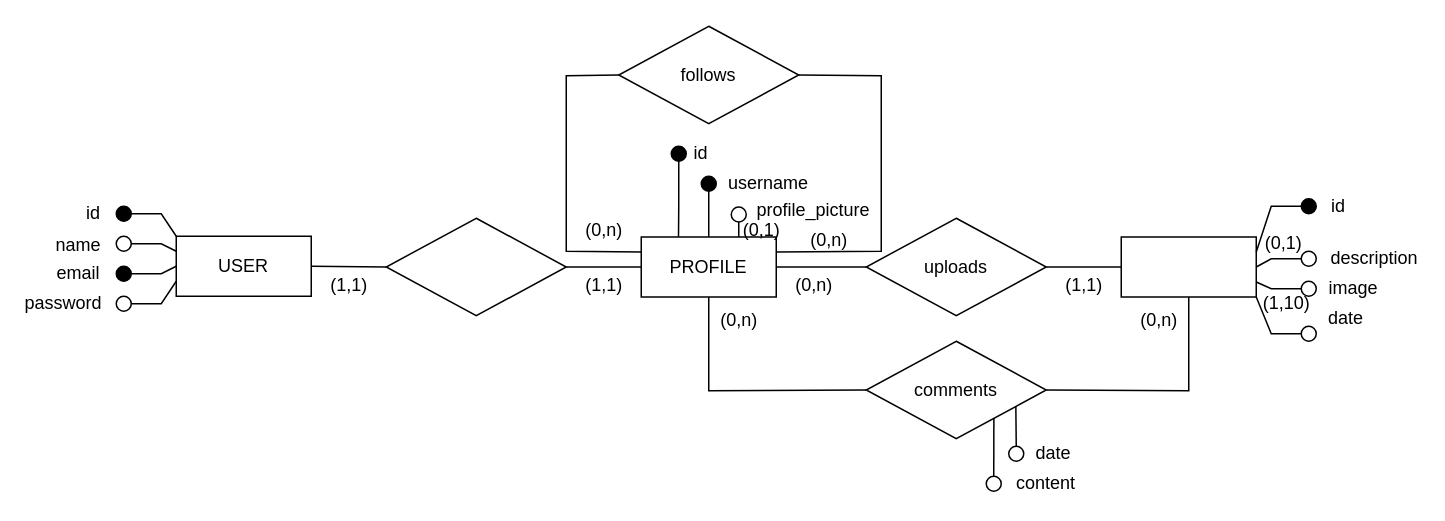
Some shapes in this 1445 by 521 pixel diagram are drawn without their labels. The centre of each missing label's shape, as x and y in pixels:
has: [475,266]
POST: [1188,266]
